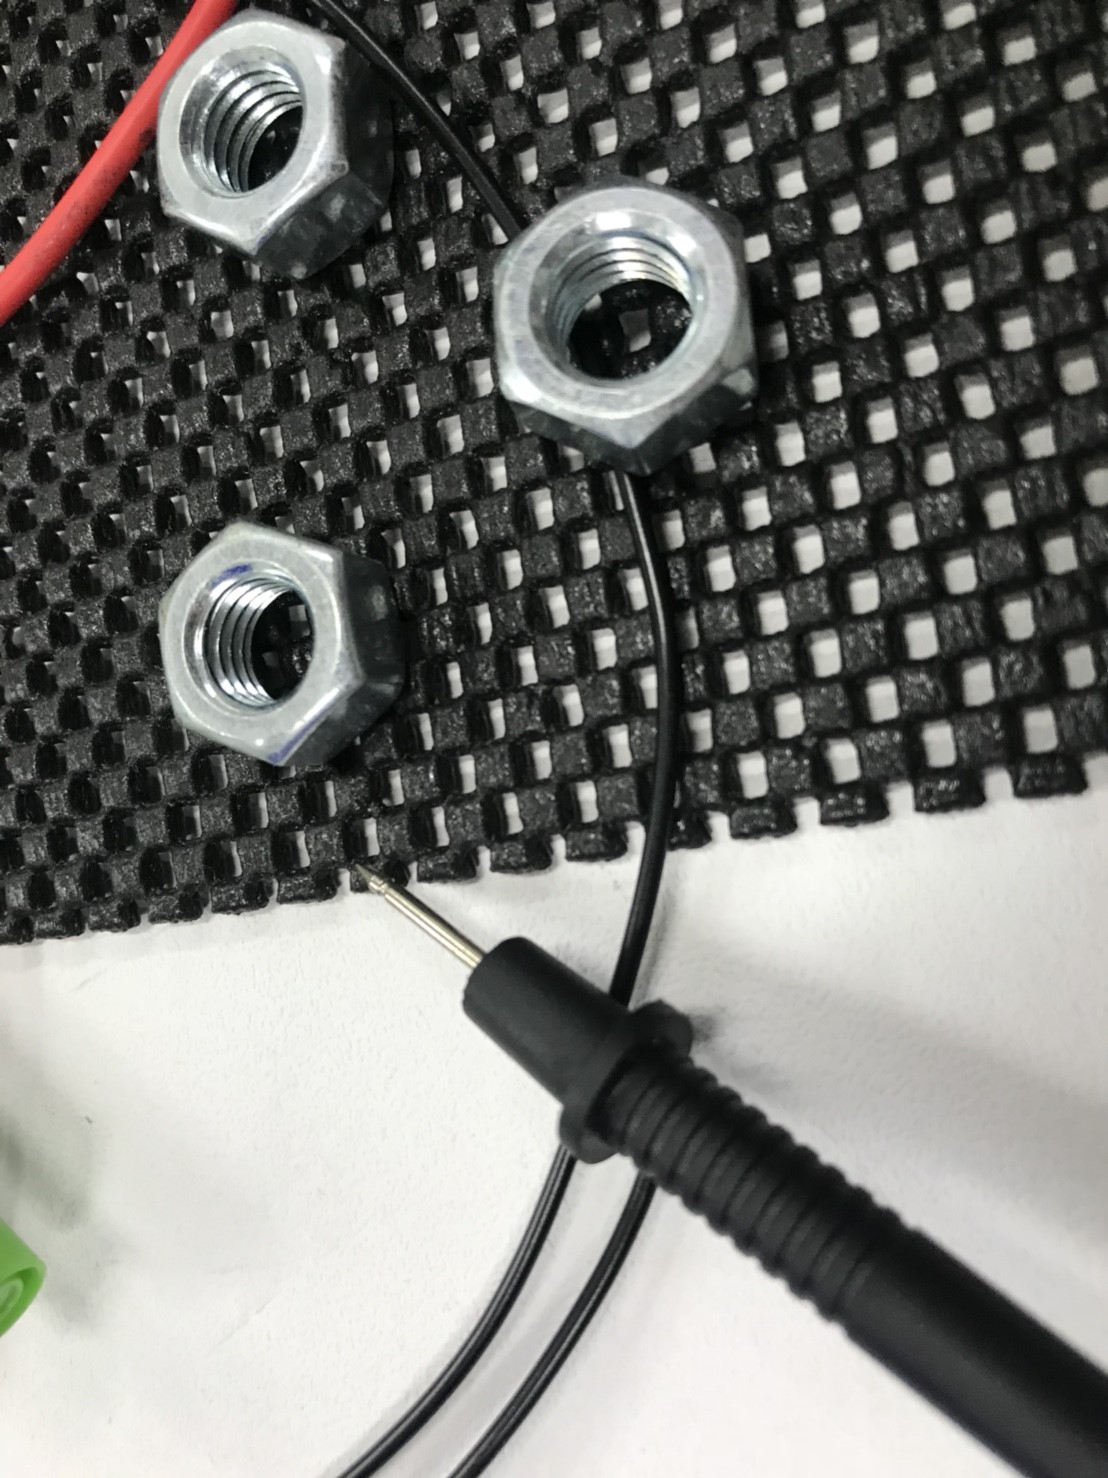nut: (482, 163, 773, 461), (158, 521, 402, 776), (152, 12, 385, 268)
